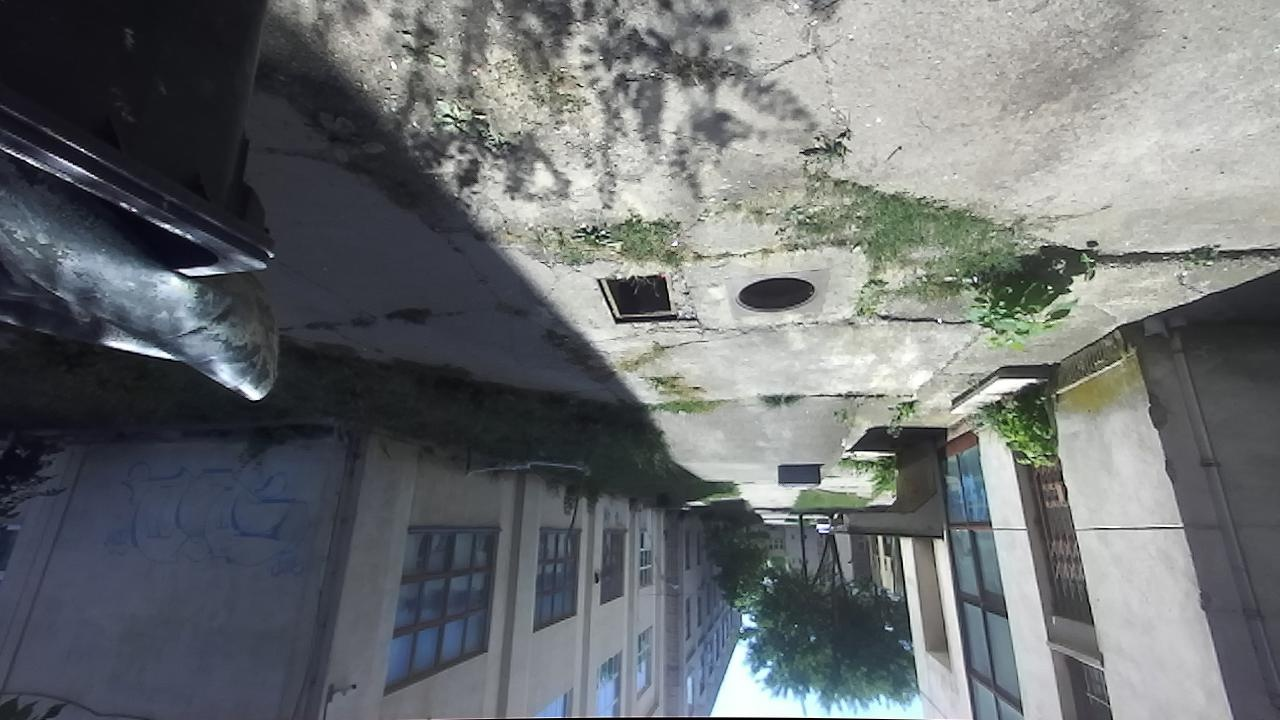drain: (593, 275, 677, 325), (730, 277, 820, 317)
